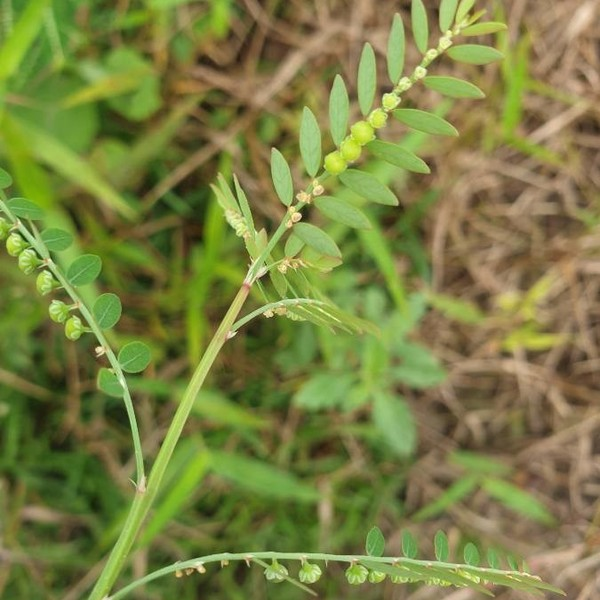obstacle: (153, 12, 453, 353)
